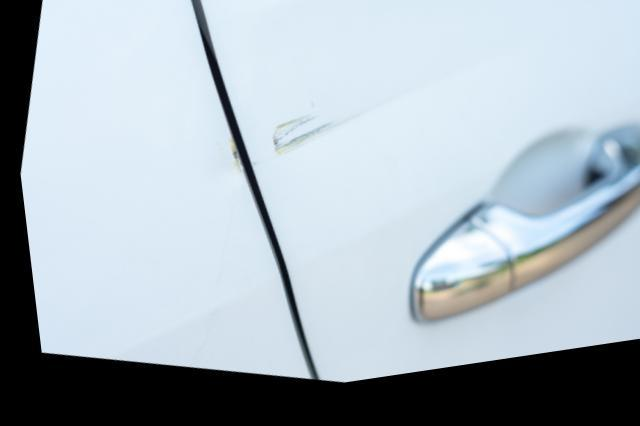scratch: (267, 105, 405, 167)
